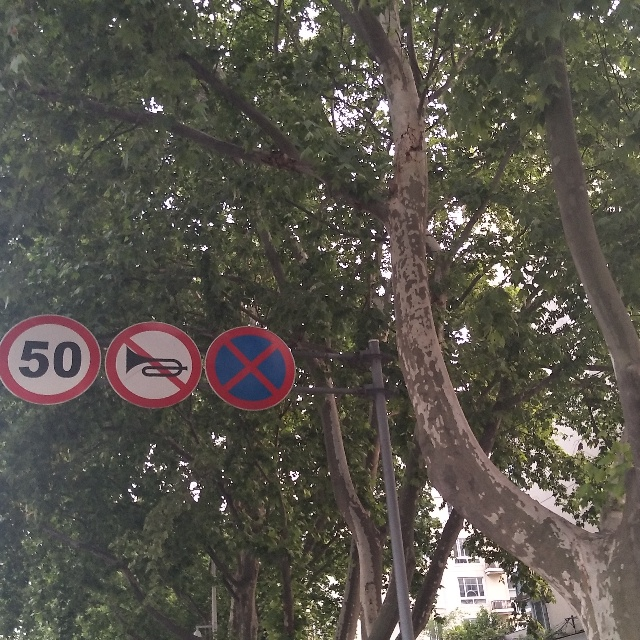nohonk: (115, 329, 200, 400)
stop: (212, 332, 288, 404)
